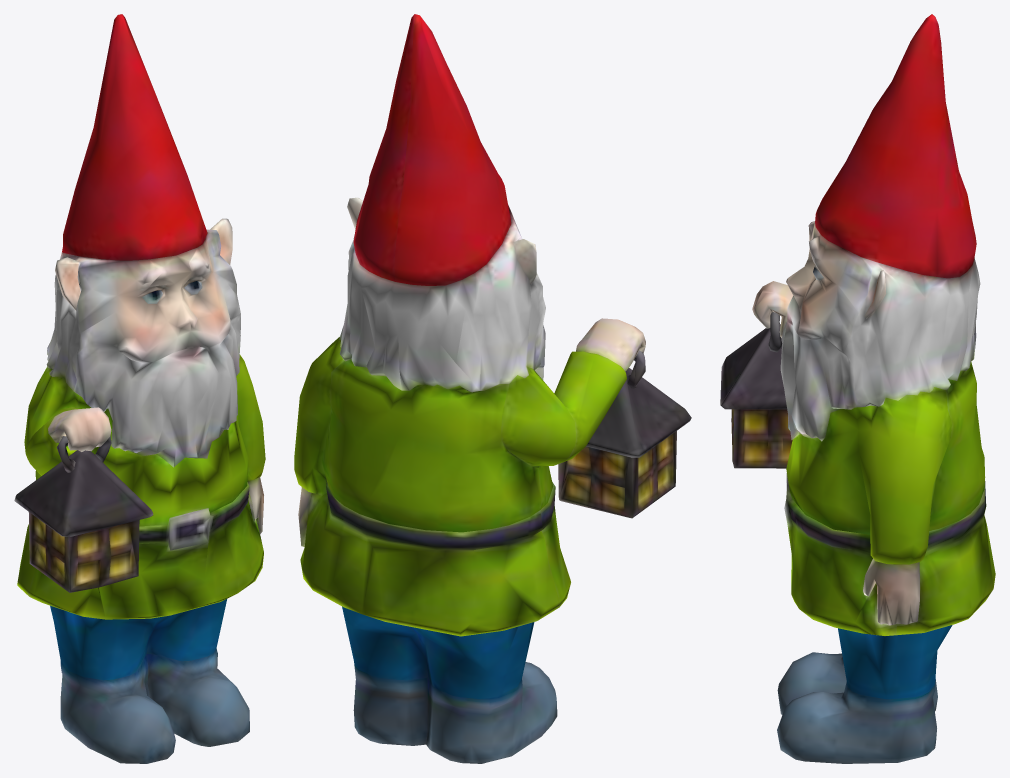
The model's file is gnome-garden.d543a89e.glb.
3 renders of one model, left to right at view 1: azimuth 30°, elevation 25°; view 2: azimuth 150°, elevation 25°; view 3: azimuth 270°, elevation 25°, orthographic. The views are drawn at different scales.
Visible parts, largest first — view 1: model; view 2: model; view 3: model.
Boxes of the visible parts, <box> form: model: <box>14,14,265,763</box>; model: <box>294,14,691,763</box>; model: <box>720,14,995,763</box>.
Bounding box in the file's own units: 0.2564 × 0.5984 × 0.2097.
Materials: 1 (1 with a texture image).
